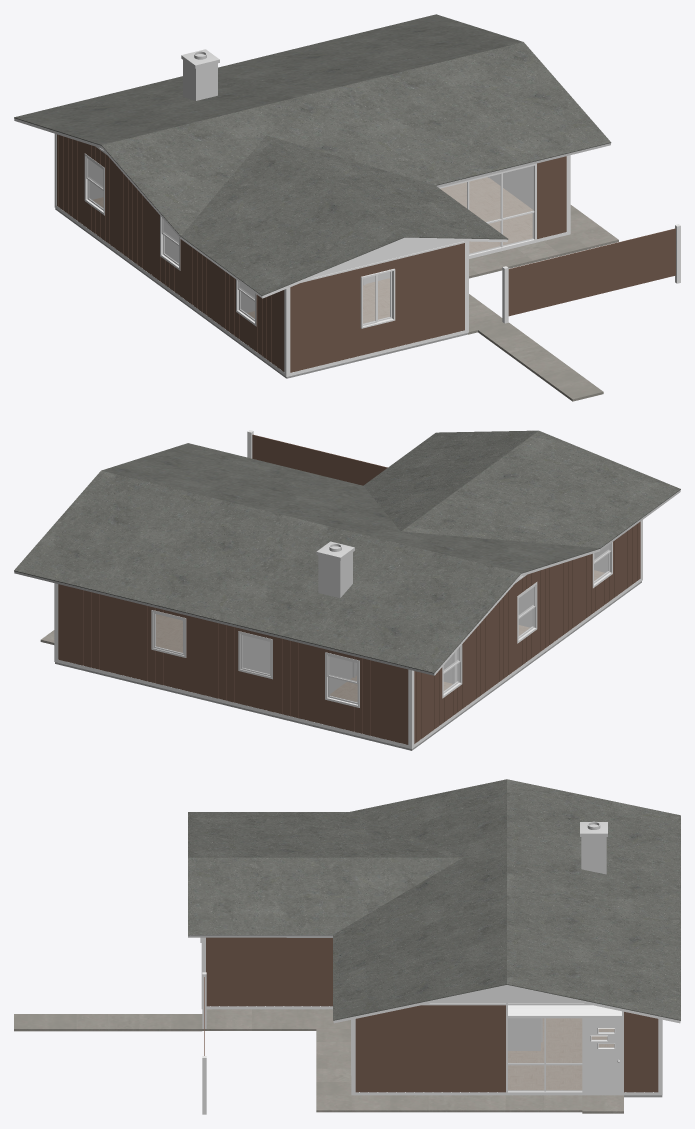
The model's file is casa_glenwood.glb.
The picture shows the model from 3 angles, top to bottom: view 1: azimuth 30°, elevation 25°; view 2: azimuth 150°, elevation 25°; view 3: azimuth 270°, elevation 25°; orthographic projection.
Visible parts, largest first — view 1: gw-45-roof.001, gw-45-plywood_panels, gw-45-walls, gw-45-concreteTiles.001, gw-45-supportBeams.001, gw-45-window.006, windowDouble.001, gw-45-chimney, gw-45-window.004, gw-45-foundation.001, gw-45-window.002, gw-45-window.003; view 2: gw-45-roof.001, gw-45-plywood_panels, gw-45-walls, gw-45-supportBeams.001, gw-45-chimney, gw-45-window.005, gw-45-window.009, gw-45-window.008, gw-45-foundation.001, gw-45-window.002, gw-45-window.004, gw-45-window.003; view 3: gw-45-roof.001, gw-45-plywood_panels, gw-45-concreteTiles.001, gw-45-walls, gw-45-supportBeams.001, gw-45-window.007, gw-45-doorFront_D.001, gw-45-chimney.
Part boxes in pixels (x1,y1,x2,y2): gw-45-roof.001: (14, 14, 611, 298); gw-45-plywood_panels: (57, 134, 566, 372); gw-45-walls: (90, 148, 675, 323); gw-45-concreteTiles.001: (468, 205, 618, 401); gw-45-supportBeams.001: (54, 134, 680, 376); gw-45-window.006: (440, 166, 533, 254); windowDouble.001: (360, 268, 395, 328); gw-45-chimney: (181, 49, 219, 100); gw-45-window.004: (84, 153, 104, 215); gw-45-foundation.001: (55, 208, 467, 378); gw-45-window.002: (160, 215, 180, 270); gw-45-window.003: (236, 279, 256, 326); gw-45-roof.001: (14, 430, 680, 675); gw-45-plywood_panels: (58, 521, 640, 744); gw-45-walls: (156, 434, 607, 701); gw-45-supportBeams.001: (54, 430, 642, 748); gw-45-chimney: (316, 541, 354, 598); gw-45-window.005: (325, 652, 359, 707); gw-45-window.009: (151, 610, 186, 657); gw-45-window.008: (238, 631, 272, 679); gw-45-foundation.001: (55, 581, 641, 750); gw-45-window.002: (517, 582, 537, 643); gw-45-window.004: (442, 644, 462, 698); gw-45-window.003: (592, 542, 612, 588); gw-45-roof.001: (188, 779, 680, 1023); gw-45-plywood_panels: (206, 937, 658, 1092); gw-45-concreteTiles.001: (14, 1009, 623, 1113); gw-45-walls: (204, 977, 613, 1089); gw-45-supportBeams.001: (201, 937, 662, 1114); gw-45-window.007: (508, 1018, 582, 1091); gw-45-doorFront_D.001: (584, 1020, 621, 1095); gw-45-chimney: (580, 821, 607, 874).
Size of the model in its own units: 11.89 by 4.1 by 16.21.
Materials: 10 (4 with a texture image).
